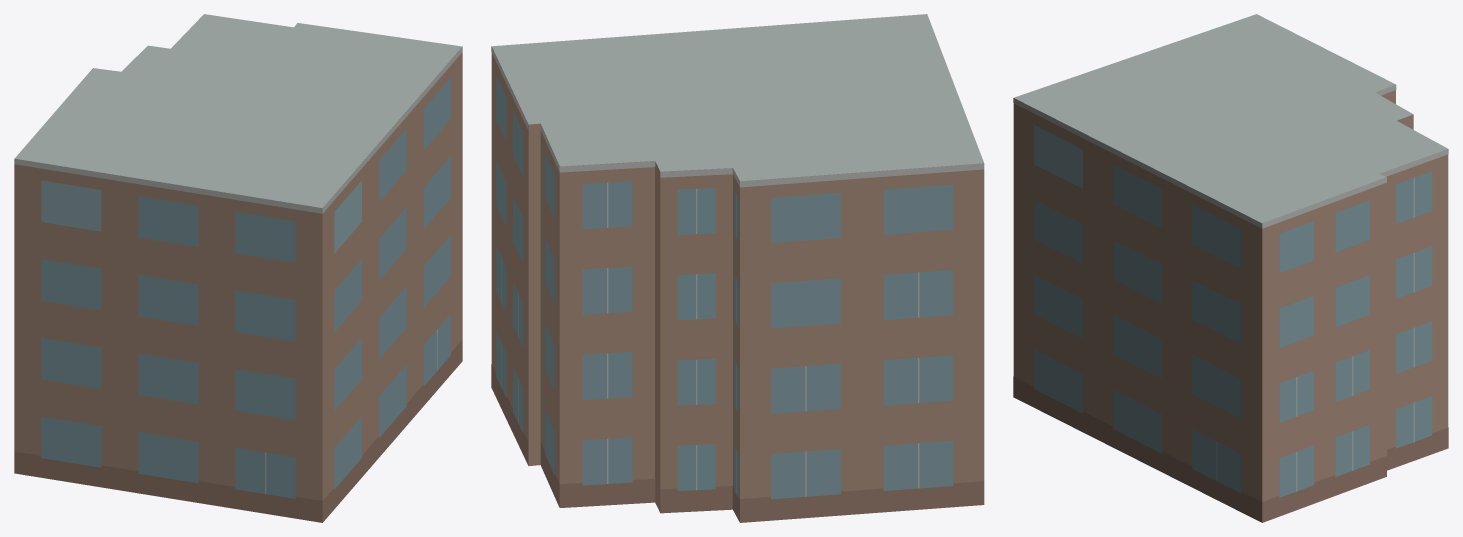
File: survey-upis-32749126.glb
3 views of the same model, side by side, from view 1: azimuth 30°, elevation 25°; view 2: azimuth 150°, elevation 25°; view 3: azimuth 270°, elevation 25° (orthographic). The views are drawn at different scales.
Parts seen in each view (by area): view 1: survey-upis-32749126.tmp; view 2: survey-upis-32749126.tmp; view 3: survey-upis-32749126.tmp.
Boxes of the visible parts, left/top/right/bottom form: survey-upis-32749126.tmp: left=14, top=14, right=462, bottom=522; survey-upis-32749126.tmp: left=491, top=14, right=984, bottom=522; survey-upis-32749126.tmp: left=1013, top=14, right=1448, bottom=522.
Size of the model in its own units: 20.4 by 13.6 by 17.91.
